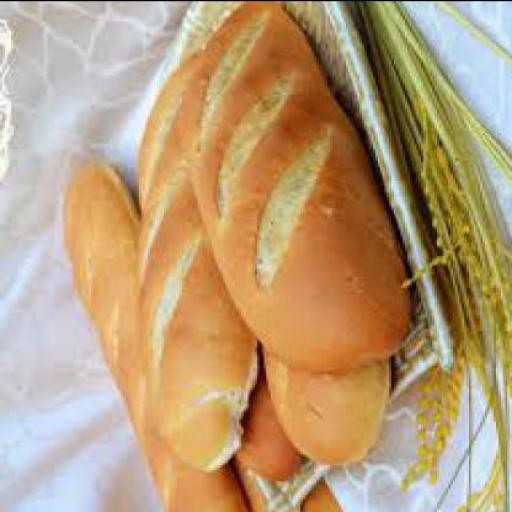biodegradable: (173, 2, 414, 376), (343, 2, 511, 511), (60, 156, 250, 511), (132, 54, 260, 476), (255, 351, 391, 466), (229, 350, 301, 481)
